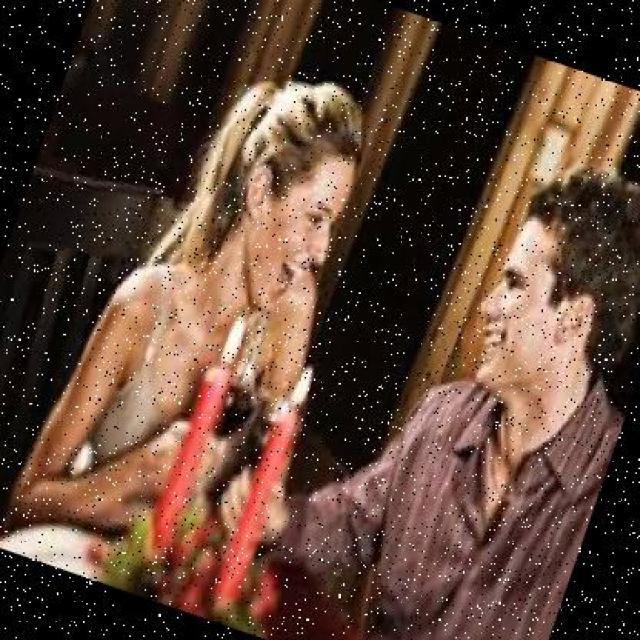fire: (201, 304, 257, 376), (280, 354, 323, 418)
